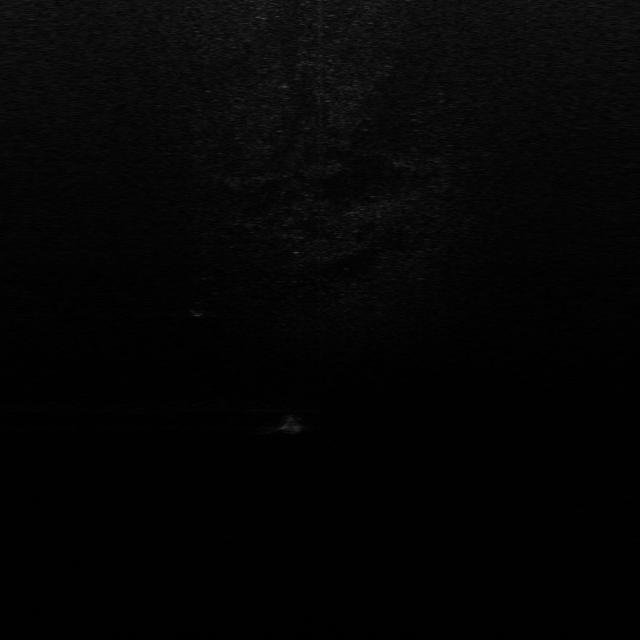ball: (280, 415, 304, 435)
circle cage: (188, 300, 210, 318)
